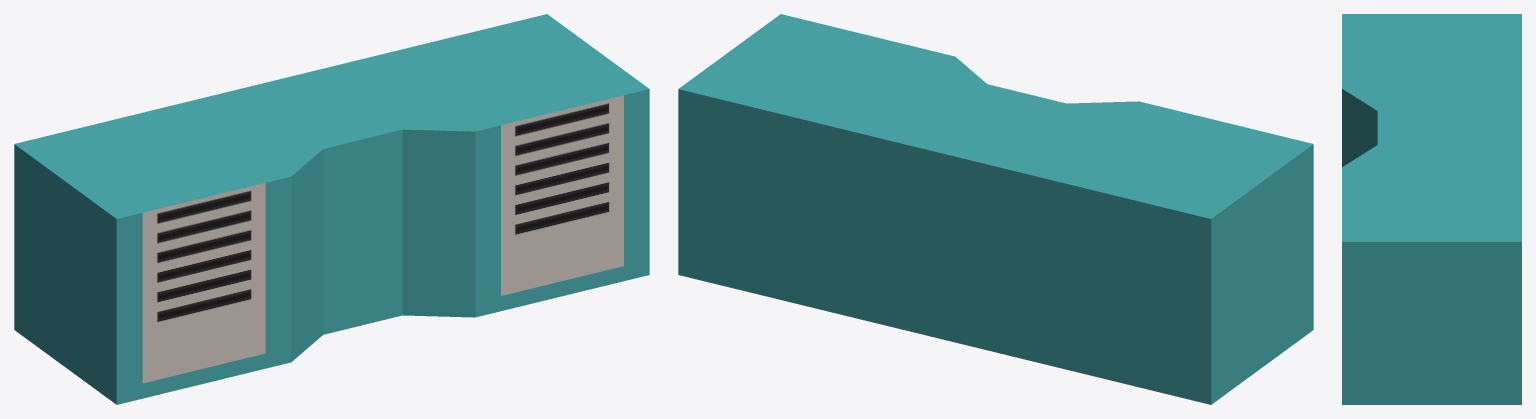
Rendered from 136_surveillance_system.glb.
3 renders of one model, left to right at view 1: azimuth 30°, elevation 25°; view 2: azimuth 150°, elevation 25°; view 3: azimuth 270°, elevation 25°, orthographic. The views are drawn at different scales.
Visible parts, largest first — view 1: surveillance_system; view 2: surveillance_system; view 3: surveillance_system.
Part boxes in pixels (x1,y1,x2,y2): surveillance_system: (14, 14, 649, 404); surveillance_system: (678, 14, 1313, 404); surveillance_system: (1342, 14, 1521, 404).
Size of the model in its own units: 2.25 by 0.75 by 0.75.
2 materials, 1 textured.
